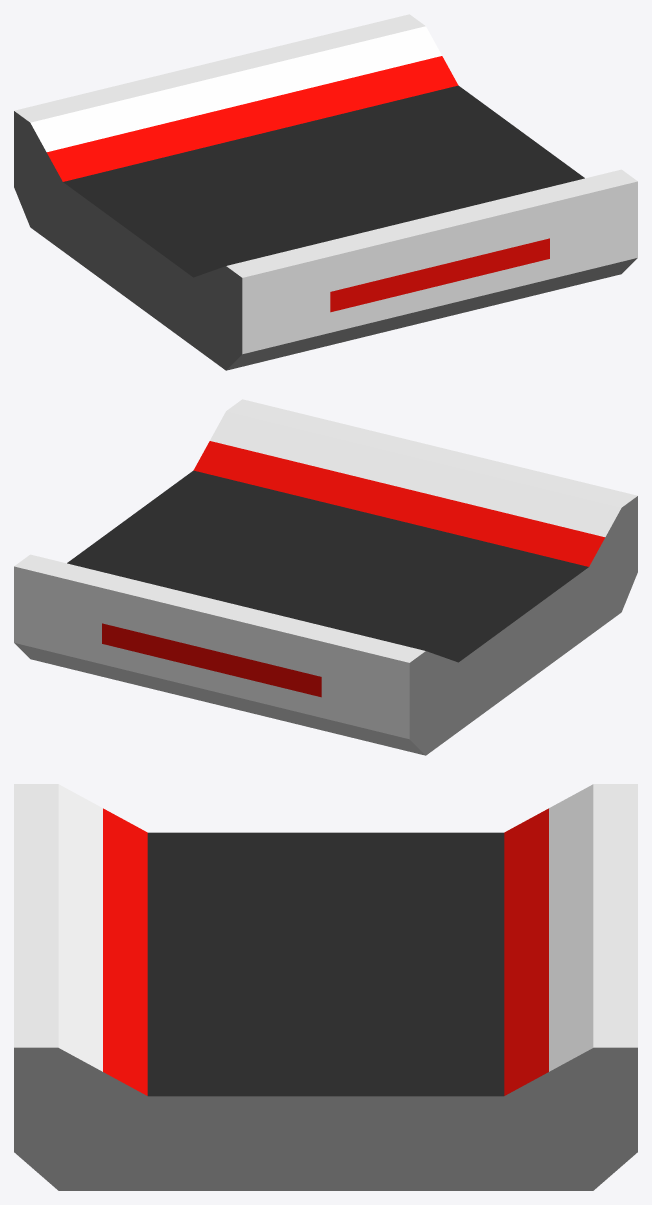
The model's file is Conveyor 1.fbx.
The picture shows the model from 3 angles, top to bottom: view 1: azimuth 30°, elevation 25°; view 2: azimuth 150°, elevation 25°; view 3: azimuth 270°, elevation 25°; orthographic projection. The views are drawn at different scales.
Parts seen in each view (by area): view 1: Conveyor; view 2: Conveyor; view 3: Conveyor.
Part boxes in pixels (x1=…): Conveyor: x1=14, y1=14, x2=637, y2=370; Conveyor: x1=14, y1=399, x2=637, y2=755; Conveyor: x1=14, y1=784, x2=637, y2=1190.
Size of the model in its own units: 200 by 50.59 by 200.
